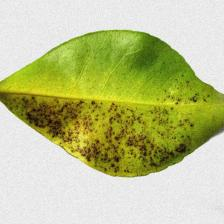canker: (21, 94, 170, 168)
